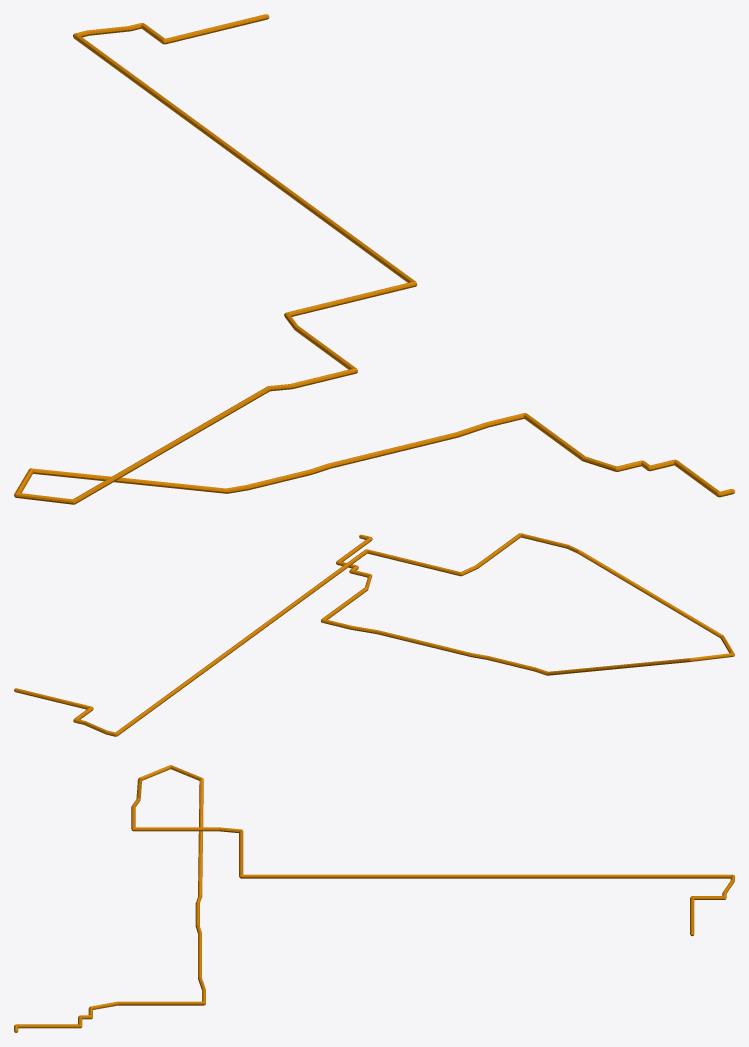
3 renders of one model, top to bottom at view 1: azimuth 30°, elevation 25°; view 2: azimuth 150°, elevation 25°; view 3: azimuth 270°, elevation 25°, orthographic. The views are drawn at different scales.
Size of the model in its own units: 2407 by 520 by 3373.
